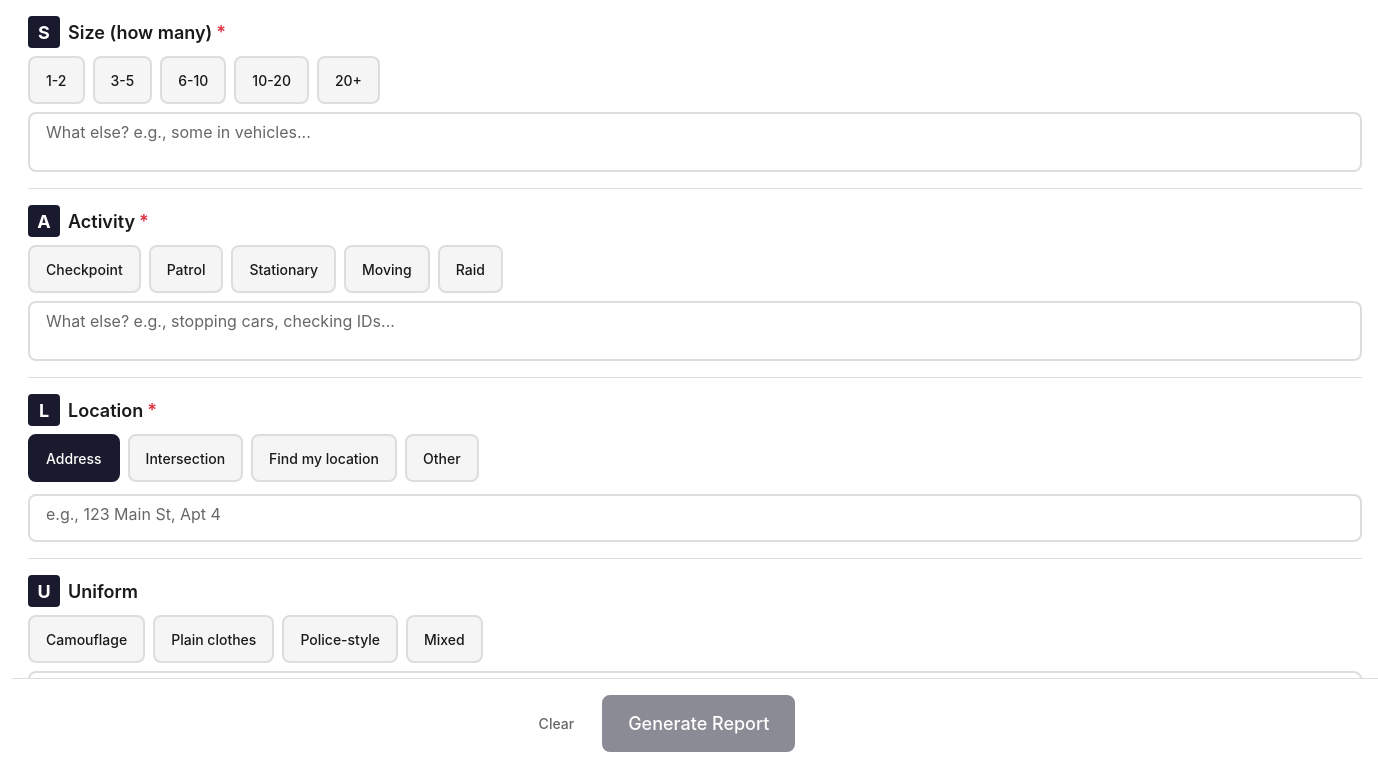
Scenario: SaluteForm › Actions › shows validation error when Generate clicked with missing required fields
Only fill Size - missing Activity, Location, Time
Click the button "3-5".
click(122, 80)  # box [92,56,152,104]
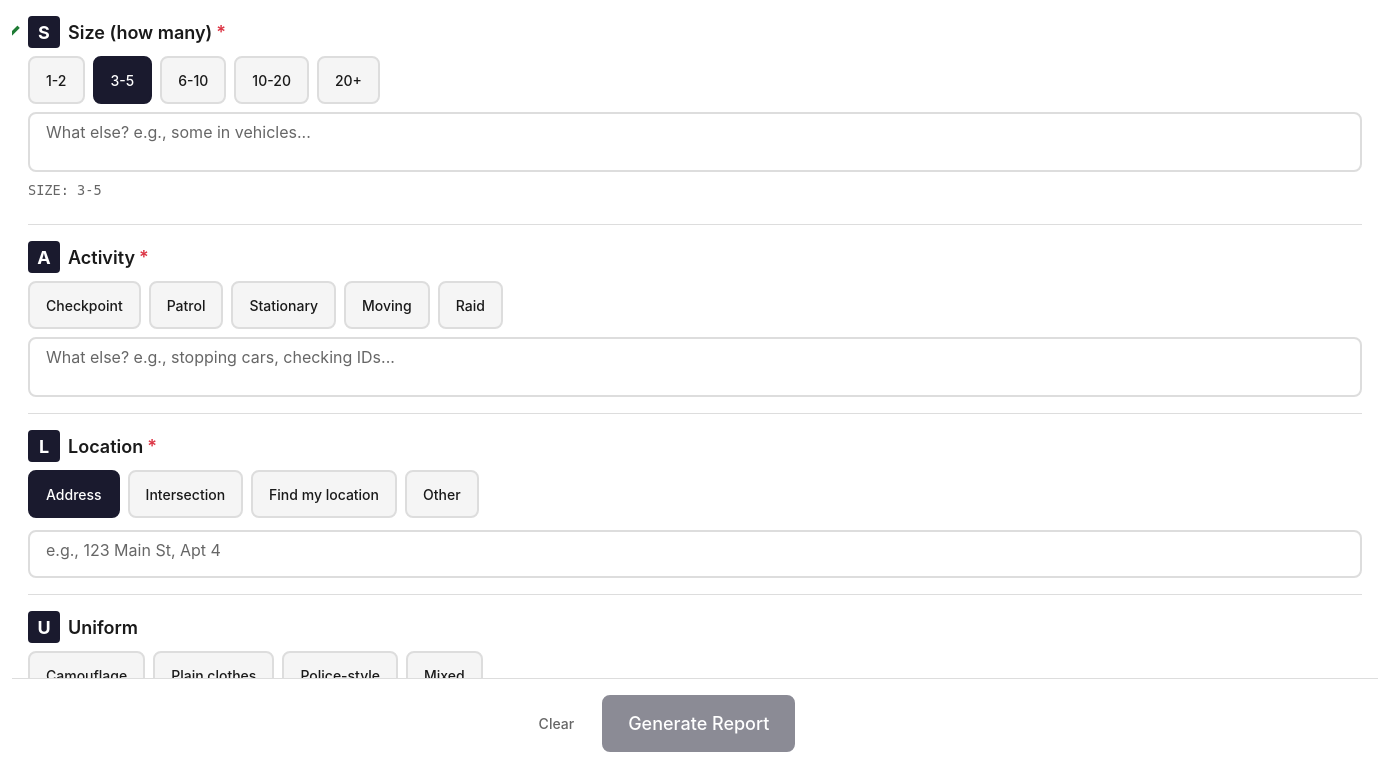
Click generate
Click the button "Generate Report".
click(699, 724)  # box [602,695,795,752]
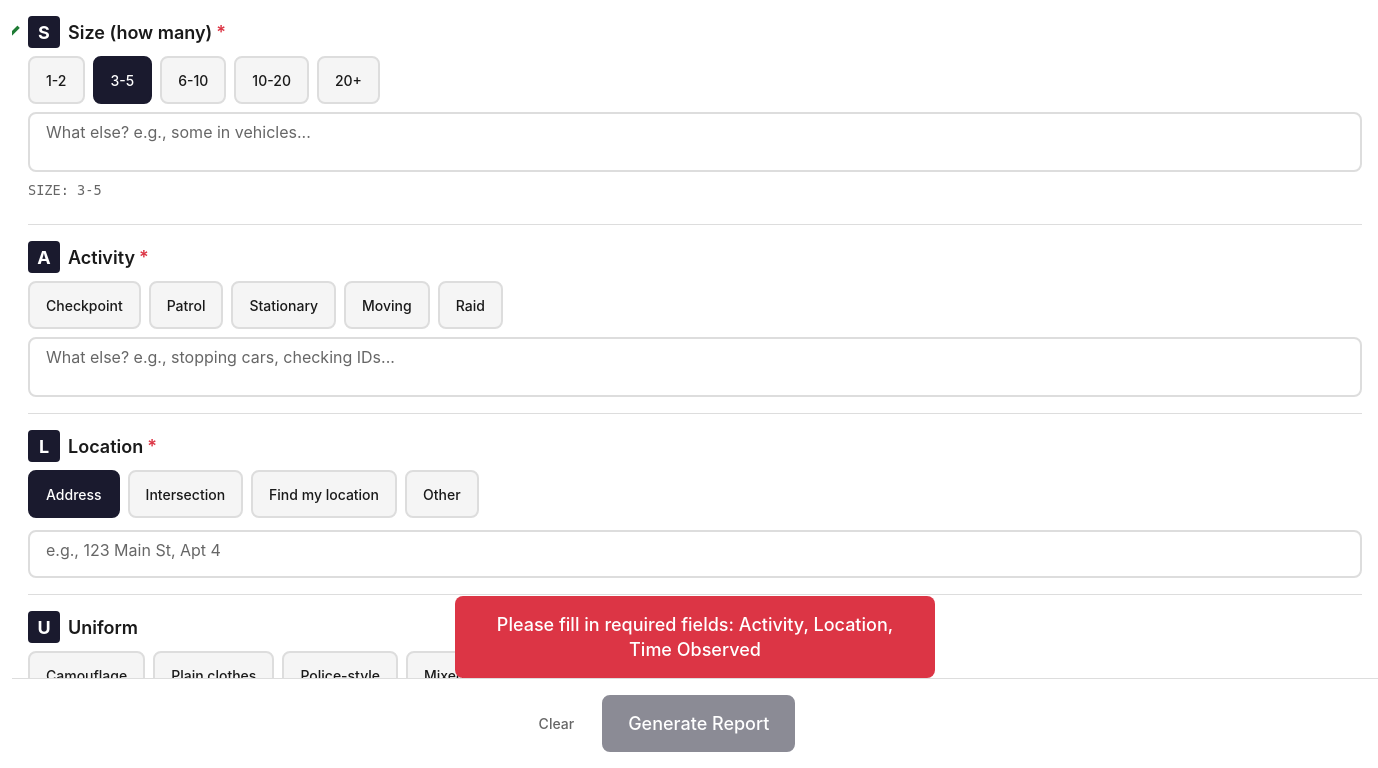
Check: the message "Please fill in required fields: Activity, Location, Time Observed" is shown, box [455,596,935,678]
Check: the text "required fields" is shown, box [497,614,893,660]
